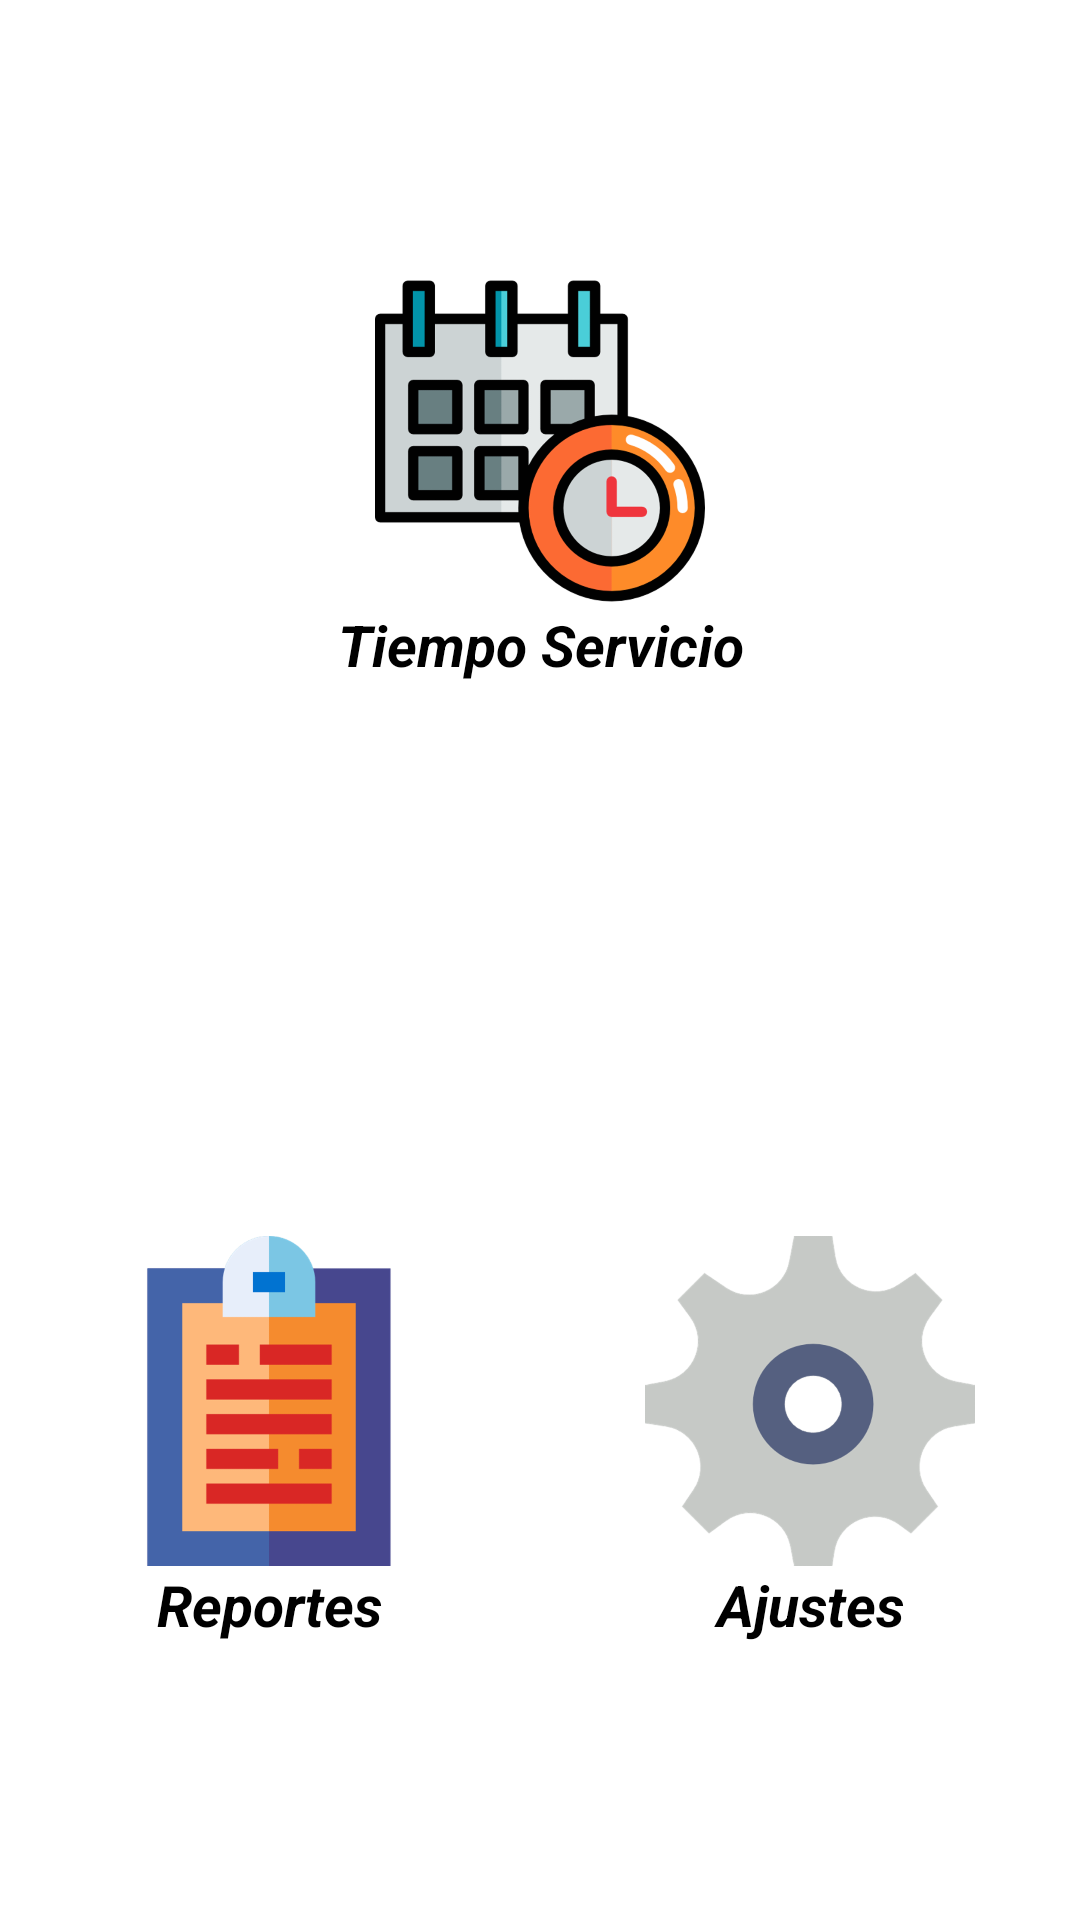

Icon bounding boxes for this 1080 × 1920 phone screenshot, format (x1, y1, x2, y2):
linea tiempo: (375, 280, 705, 602)
